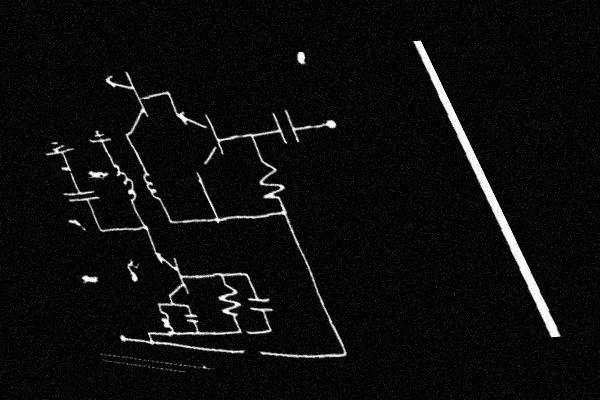capacitor: (261, 106, 309, 149), (59, 183, 106, 208), (241, 290, 280, 318), (180, 308, 203, 326)
ground: (37, 136, 81, 163), (83, 127, 117, 149)
inductor: (108, 156, 146, 208), (135, 165, 168, 207), (154, 308, 180, 337)
resistor: (241, 151, 297, 209), (205, 277, 255, 326)
